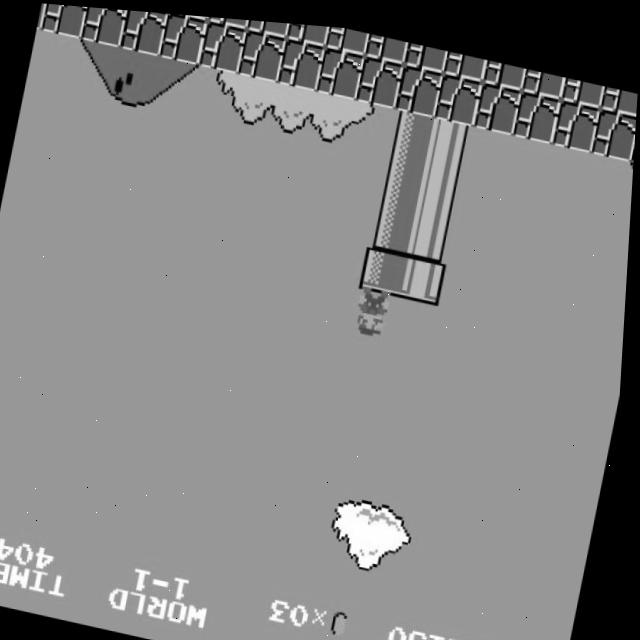11- little_mario: (351, 279, 402, 336)
14- pipe: (426, 111, 476, 165), (378, 147, 428, 201), (418, 155, 467, 209), (387, 103, 436, 157), (409, 201, 458, 254), (370, 193, 419, 246)
15- pipe_head: (400, 245, 450, 299), (361, 237, 411, 291)
17- undestructible_block: (513, 82, 563, 136), (434, 66, 484, 120), (395, 57, 445, 111), (198, 17, 248, 71), (553, 90, 602, 144), (474, 74, 523, 128), (356, 49, 405, 103), (317, 41, 366, 95), (277, 33, 326, 87), (238, 25, 287, 79), (159, 10, 208, 62), (592, 97, 637, 151), (120, 8, 169, 54), (80, 5, 129, 46), (41, 3, 89, 38), (561, 68, 606, 99), (404, 35, 449, 66), (364, 27, 409, 58), (521, 60, 567, 90), (482, 52, 528, 82), (443, 44, 488, 74), (325, 21, 370, 50), (600, 76, 638, 106), (285, 18, 330, 42), (246, 16, 291, 34), (207, 13, 251, 25), (37, 2, 49, 30)
